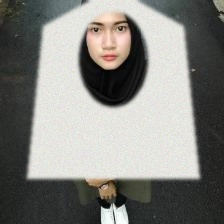Mukena: (27, 0, 199, 178)
